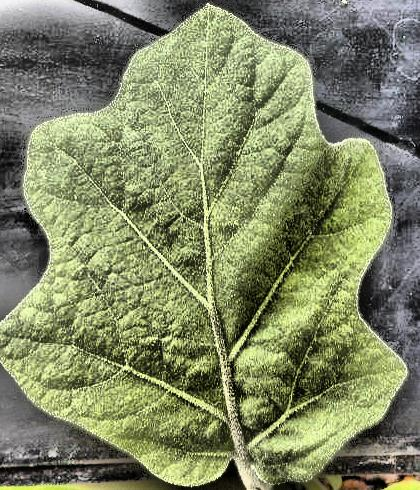HEALTHY: (0, 1, 420, 490)
